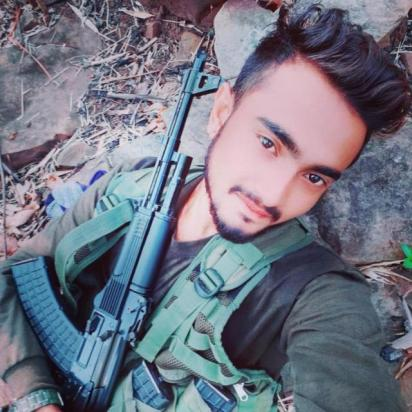Gun: (6, 50, 226, 412)
